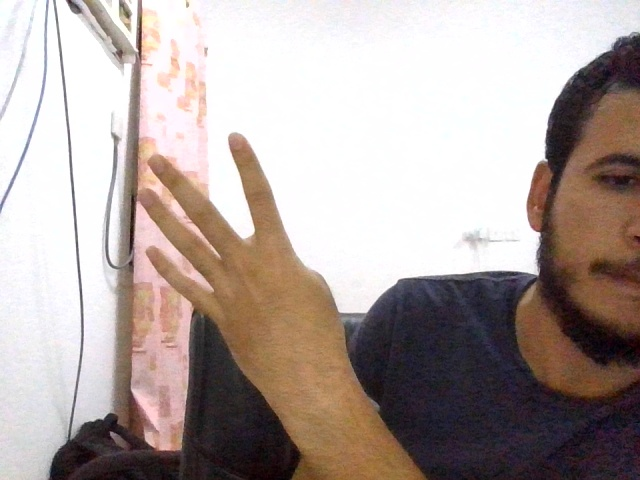Four: (137, 132, 357, 360)
